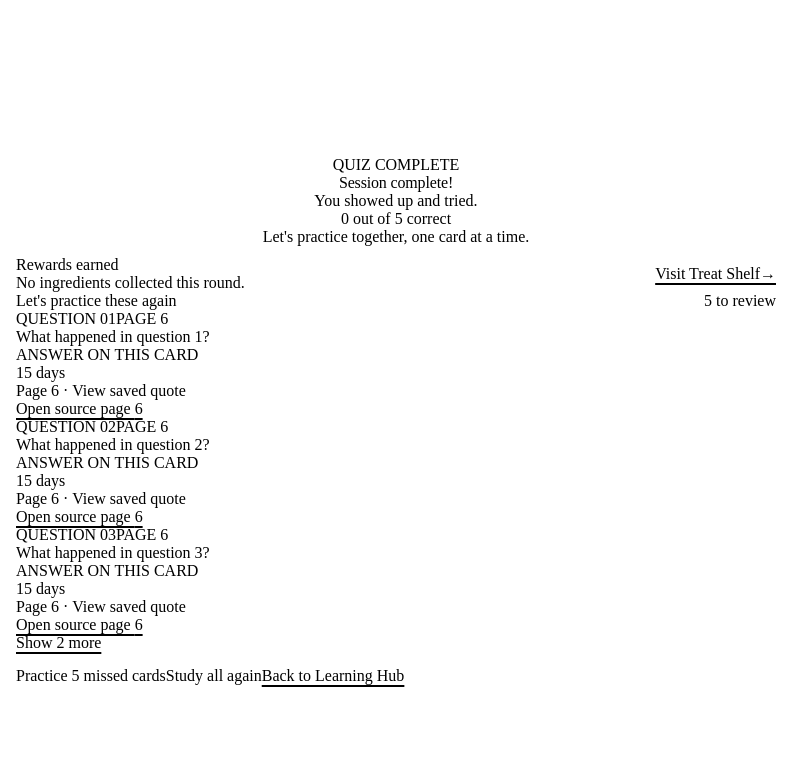
Test: QuizResults › reveals all missed cards when there are more than three
expect the number of headings "What happened in question 1?" is 3: met, box [16,328,210,345]; [16,436,210,453]; [16,544,210,561]
Click the button "Show 2 more" at [59, 643], box [16,634,101,652]
(page scrolled)
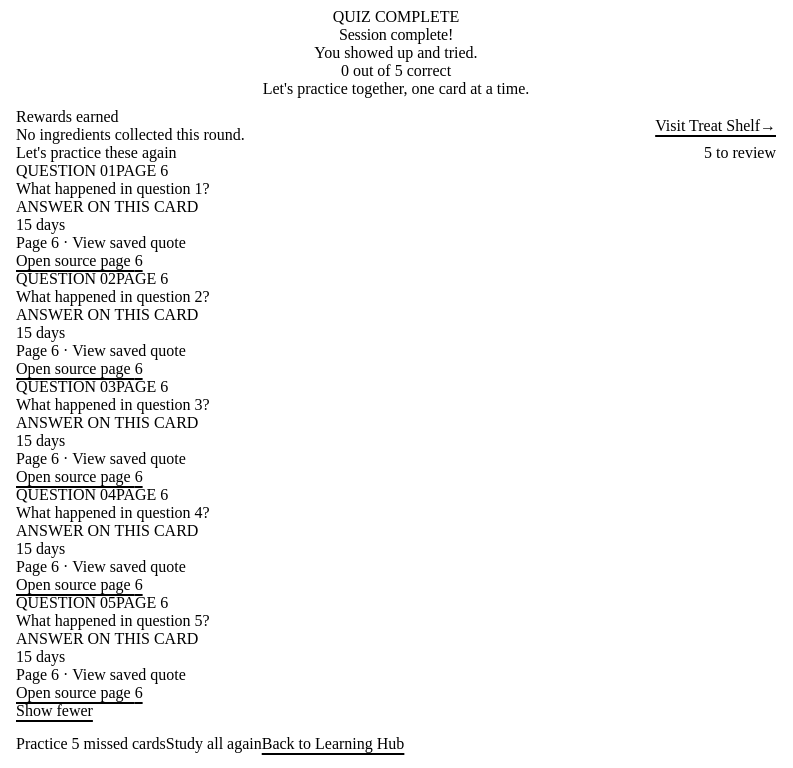
expect the number of headings "What happened in question 1?" is 5: met, box [16,180,210,197]; [16,288,210,305]; [16,396,210,413]; [16,504,210,521]; [16,612,210,629]
Click the button "Show fewer" at [54, 711], box [16,702,93,720]
(page scrolled)
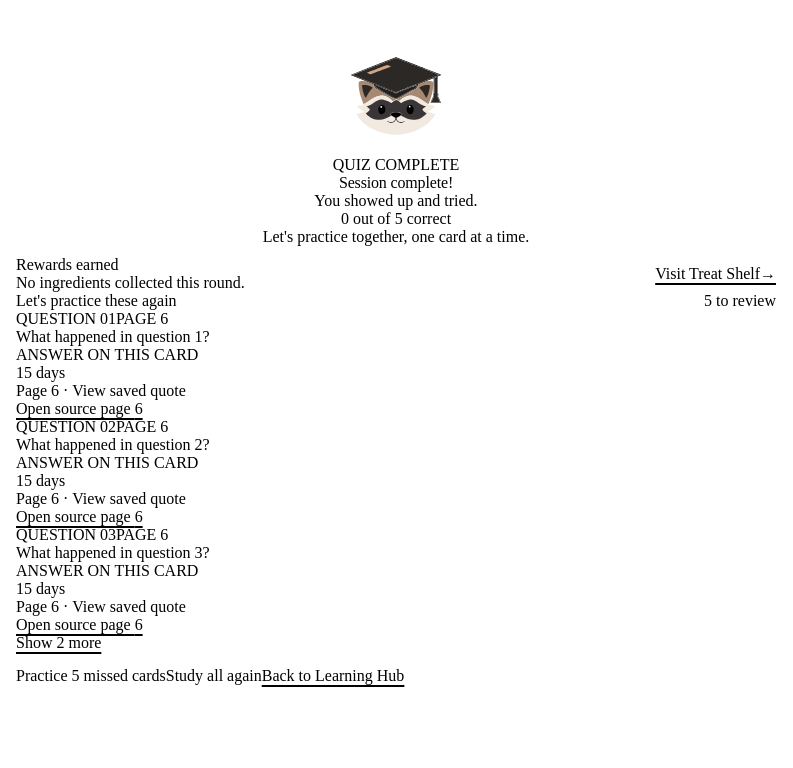
expect the number of headings "What happened in question 1?" is 3: met, box [16,328,210,345]; [16,436,210,453]; [16,544,210,561]
